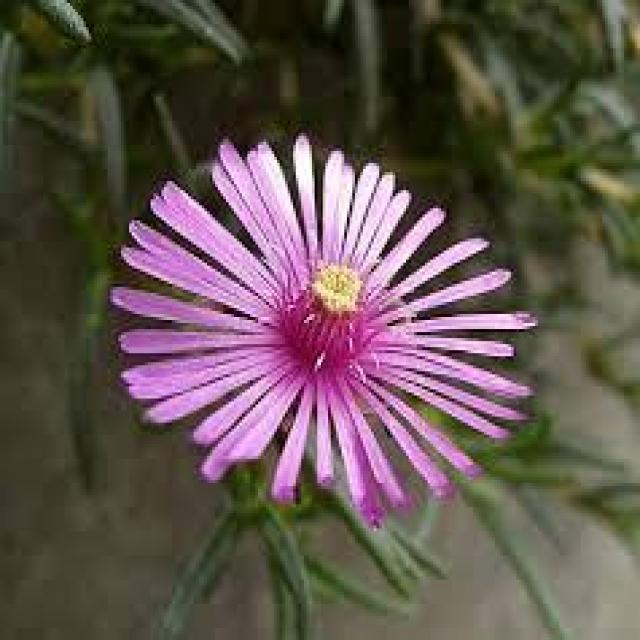organic waste: (110, 136, 535, 501)
